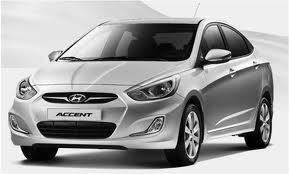car: (7, 17, 277, 166)
